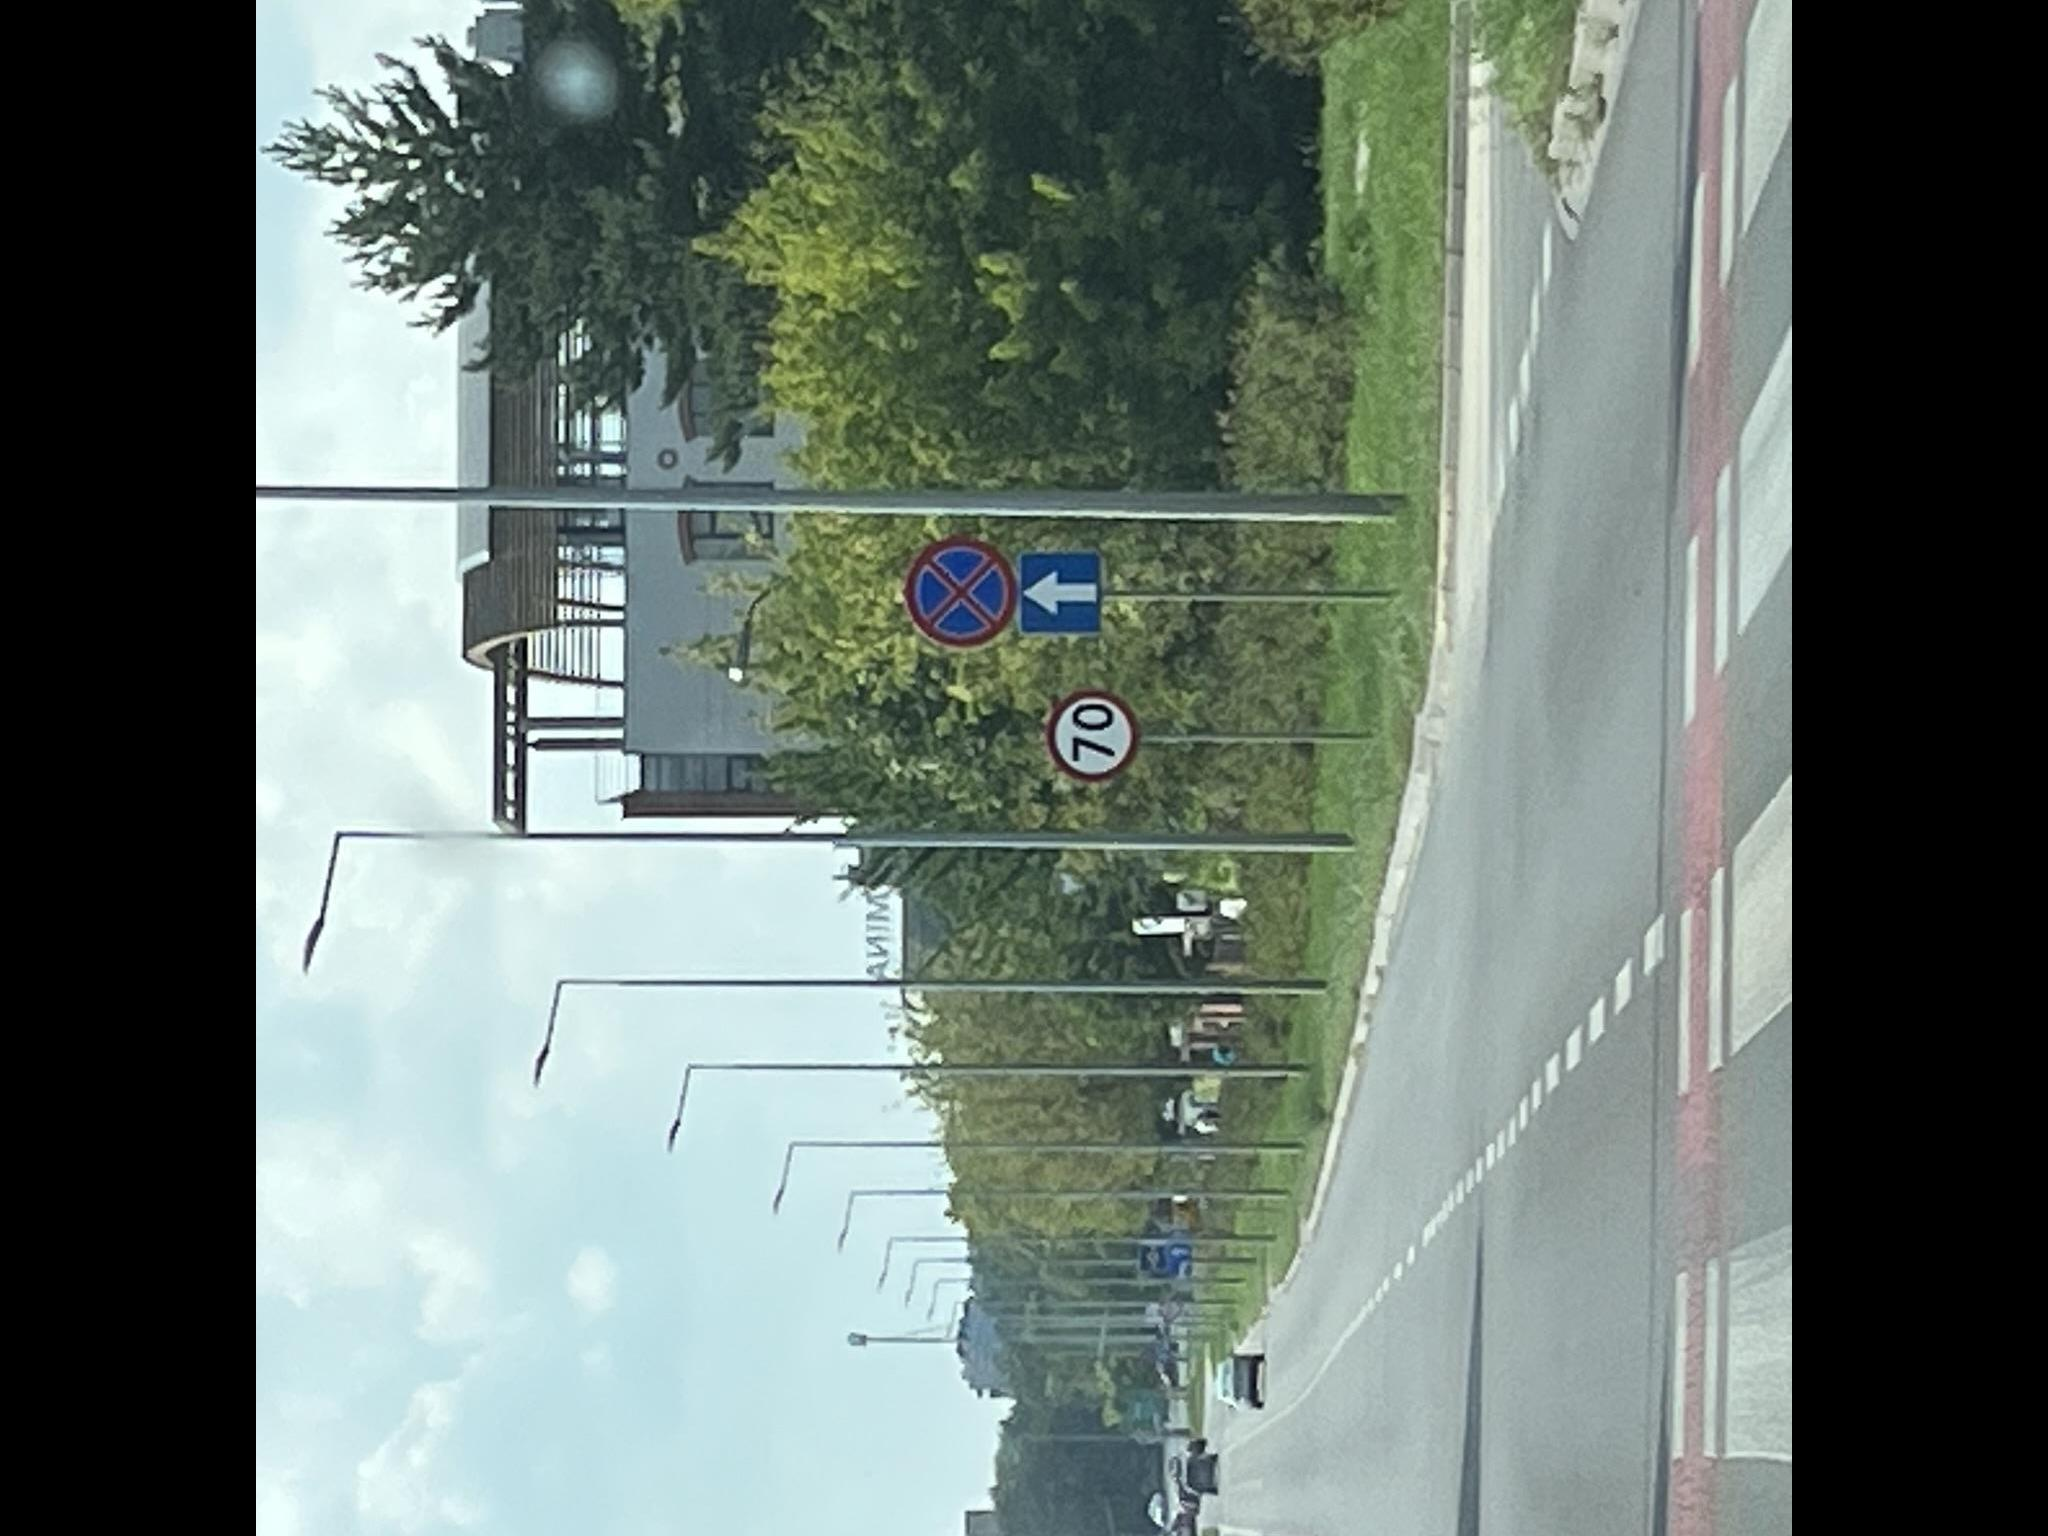information: (1021, 549, 1101, 634)
prohibitory: (901, 536, 1019, 649), (1047, 687, 1143, 781)
